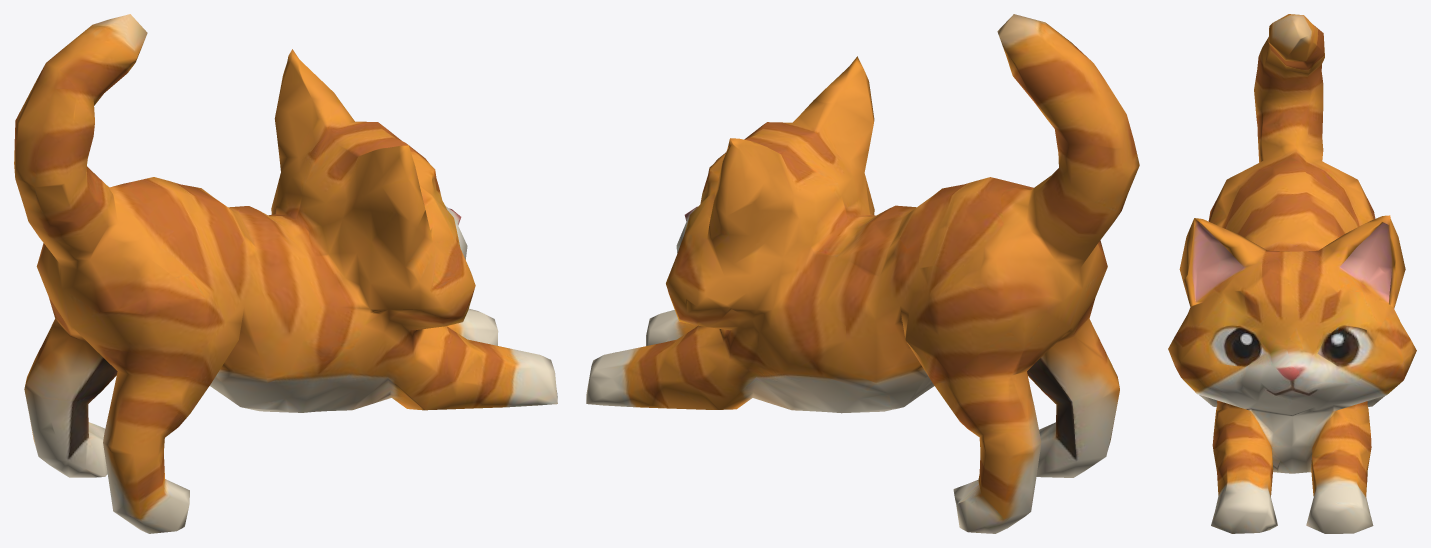
File: ginger-stretch.glb
The picture shows the model from 3 angles, left to right: view 1: azimuth 30°, elevation 25°; view 2: azimuth 150°, elevation 25°; view 3: azimuth 270°, elevation 25°; orthographic projection. The views are drawn at different scales.
Visible parts, largest first — view 1: tripo_node_9da84c60-b372-42ff-96b3-e0e728bea13f; view 2: tripo_node_9da84c60-b372-42ff-96b3-e0e728bea13f; view 3: tripo_node_9da84c60-b372-42ff-96b3-e0e728bea13f.
Part boxes in pixels (x1,y1,x2,y2): tripo_node_9da84c60-b372-42ff-96b3-e0e728bea13f: [14, 14, 557, 533]; tripo_node_9da84c60-b372-42ff-96b3-e0e728bea13f: [586, 14, 1139, 533]; tripo_node_9da84c60-b372-42ff-96b3-e0e728bea13f: [1168, 14, 1416, 533].
Size of the model in its own units: 1 by 0.9033 by 0.5285.
Materials: 1 (1 with a texture image).
